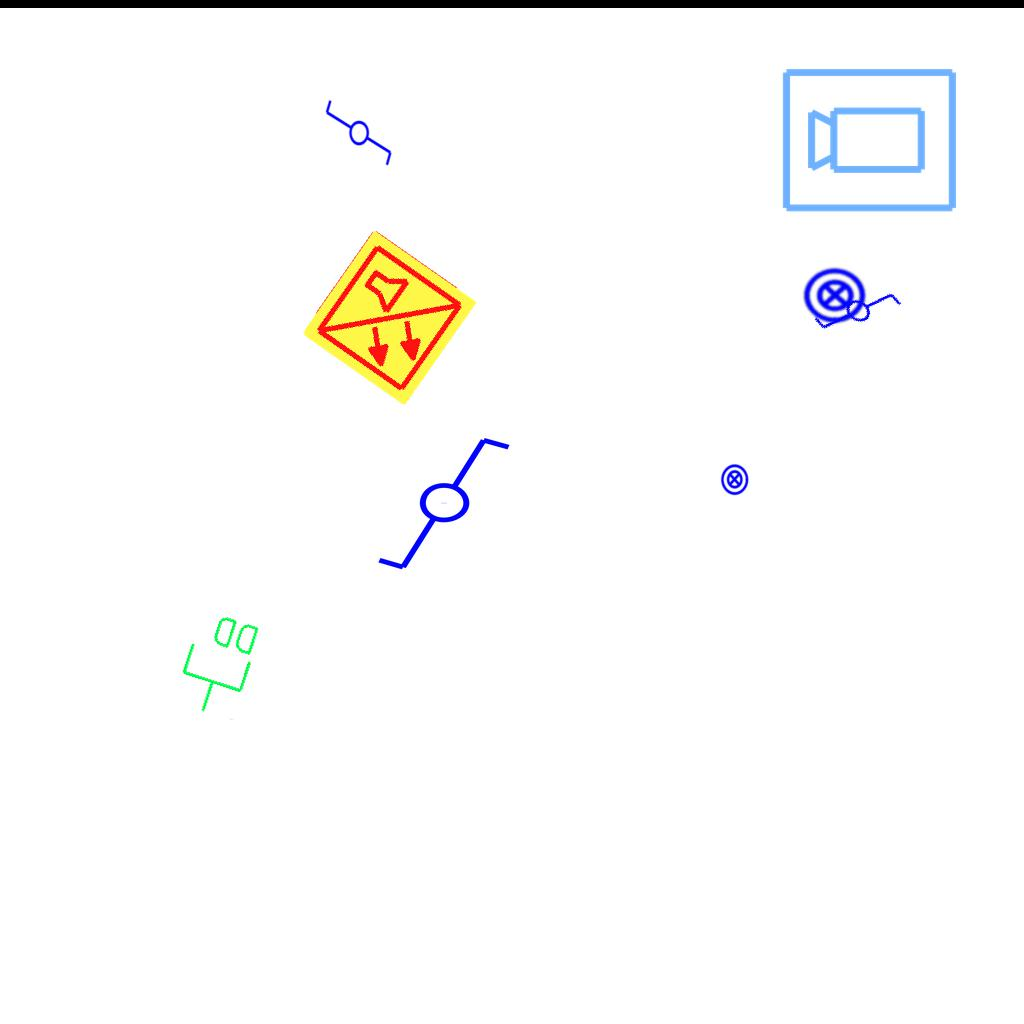Datenanschluss_zweifach: (169, 604, 268, 725)
KFO_Kamera_mit_Festobjektiv: (779, 62, 961, 216)
OKW_Multisensormelder_(Kombination_optischer_Rauch-Kahlenmonoxid_Waerme-Melder): (297, 226, 481, 410)
Taster_beleuchtet: (802, 262, 868, 328), (718, 463, 751, 496)
Wechselschalter: (374, 433, 531, 577), (808, 262, 914, 366), (322, 98, 394, 176)
